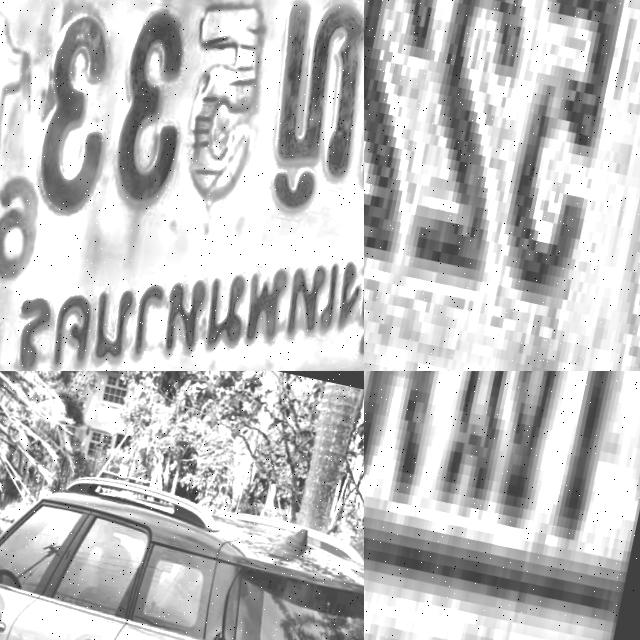license-plate: (0, 0, 364, 371), (364, 0, 640, 371), (364, 371, 640, 640)
